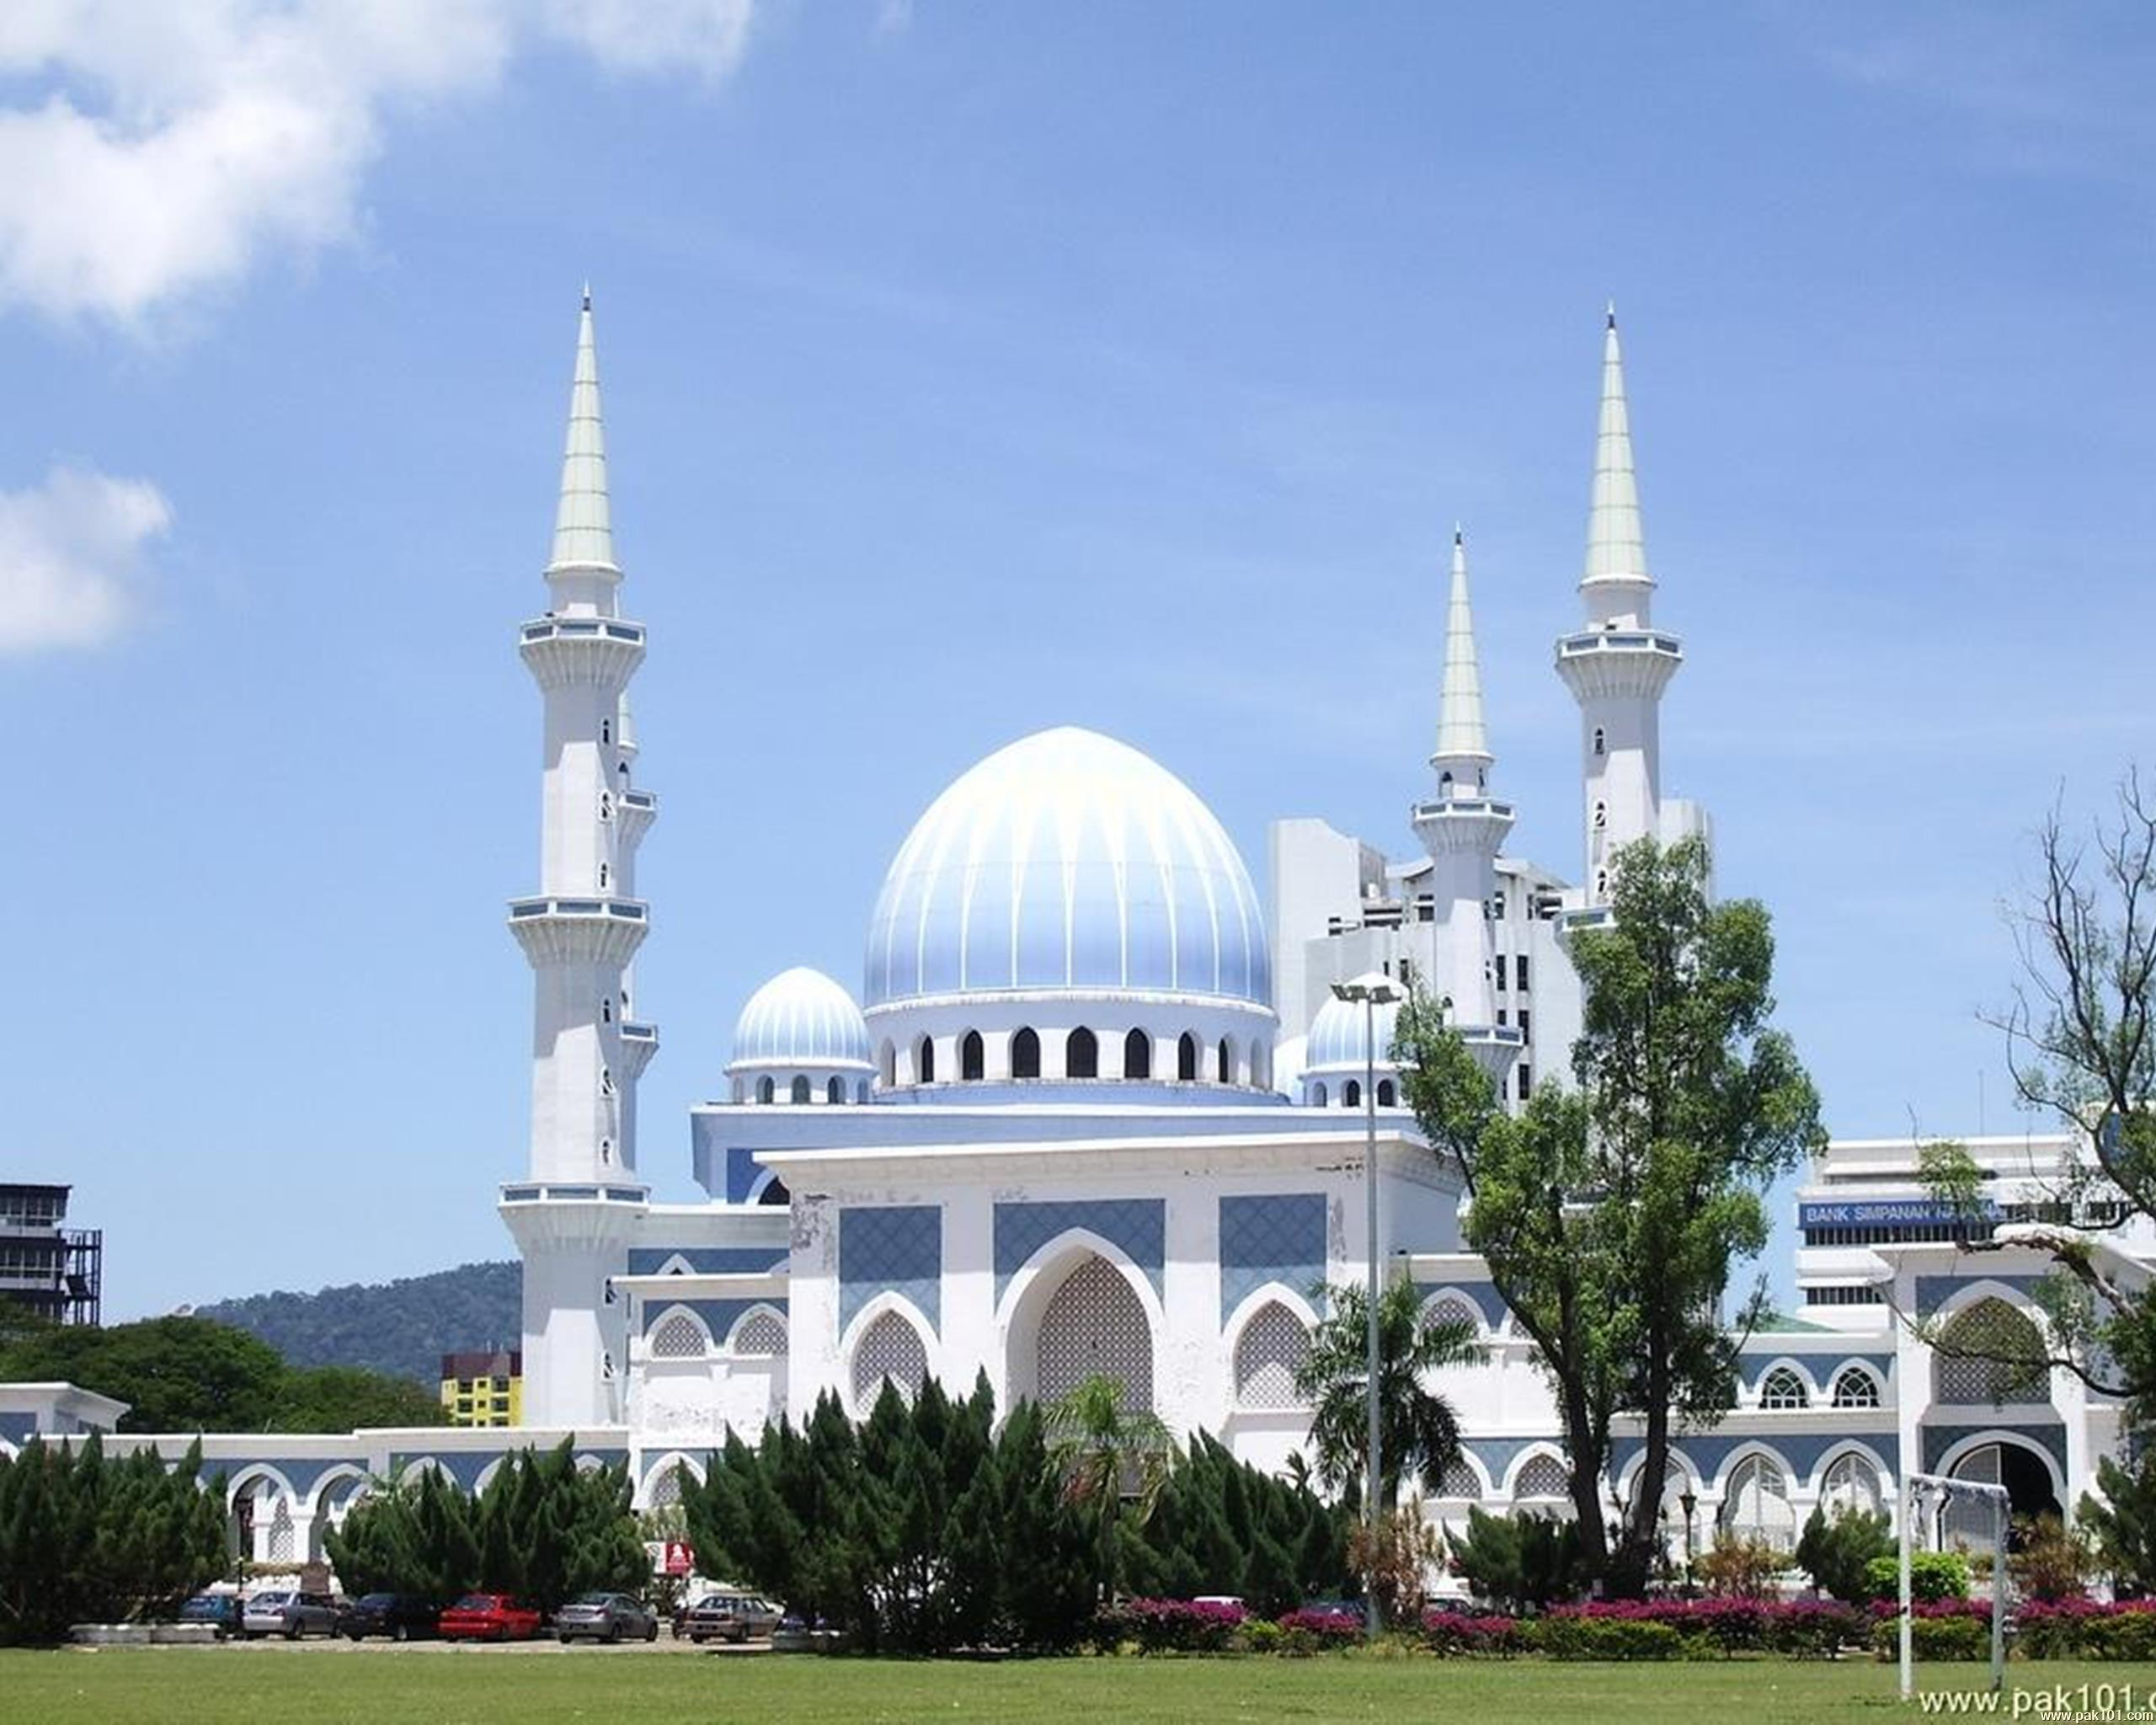Mosque: (410, 243, 1704, 1362)
